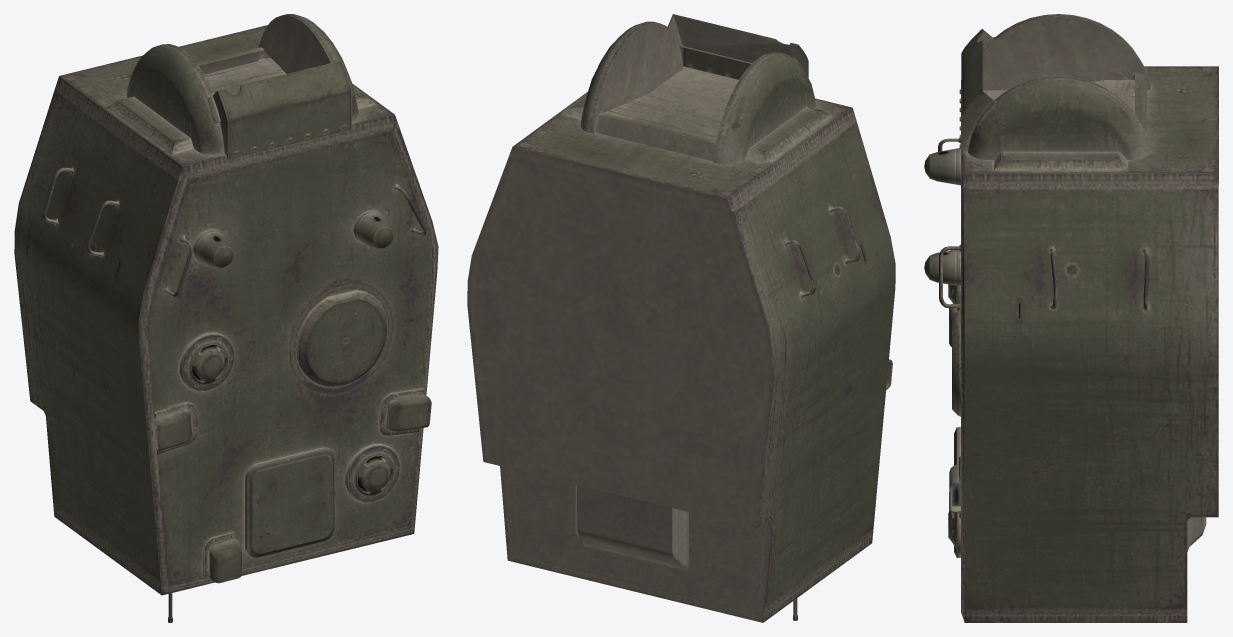
The model's file is Turret_02.glb.
3 views of the same model, side by side, from view 1: azimuth 30°, elevation 25°; view 2: azimuth 150°, elevation 25°; view 3: azimuth 270°, elevation 25° (orthographic). The views are drawn at different scales.
Visible parts, largest first — view 1: set_0_group_0; view 2: set_0_group_0; view 3: set_0_group_0.
Part boxes in pixels (<box>): set_0_group_0: <box>14,14,438,622</box>; set_0_group_0: <box>467,14,895,622</box>; set_0_group_0: <box>924,14,1218,622</box>.
Bounding box in the file's own units: 1.97 × 3.33 × 1.54.
Materials: 1 (1 with a texture image).
